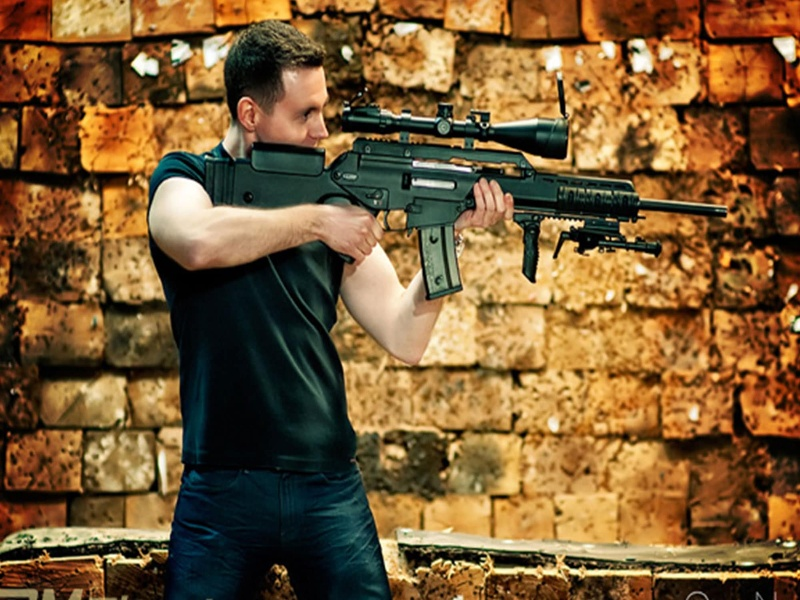person: (146, 20, 513, 600)
weapon: (203, 103, 728, 300)
